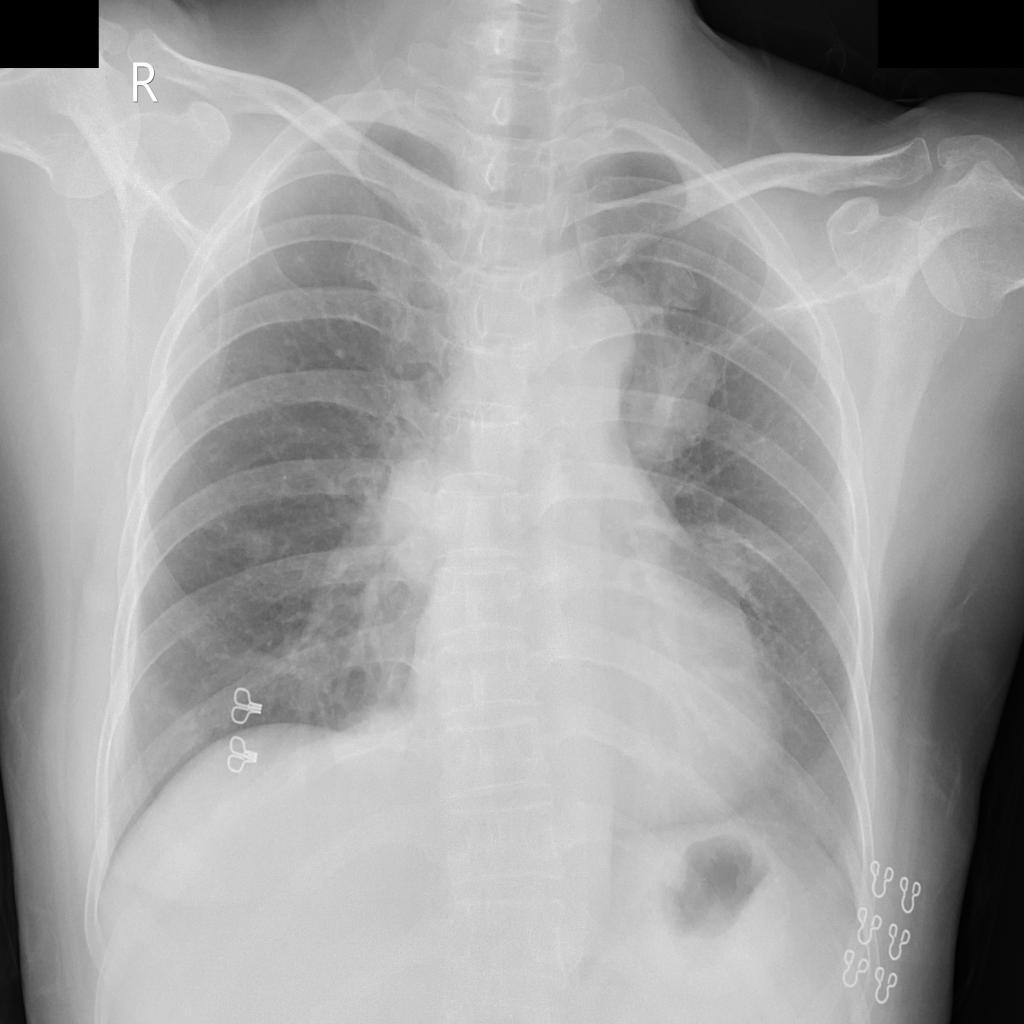Nodule: (624, 325, 724, 466), (371, 454, 470, 584), (329, 710, 407, 784), (243, 525, 278, 560)
